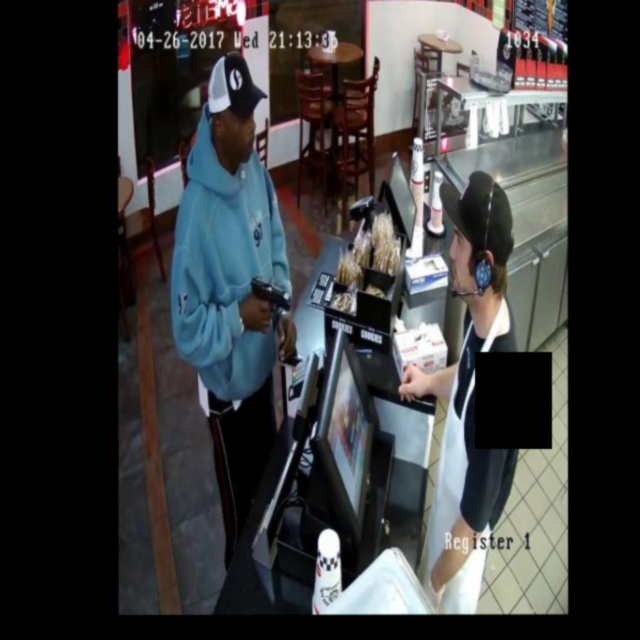gun: (241, 254, 295, 324)
